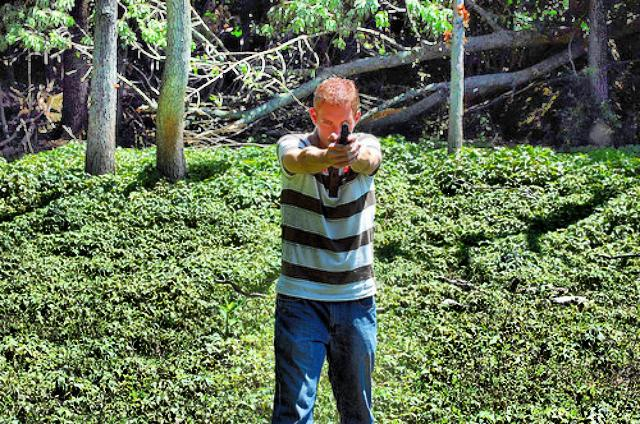pistol: (338, 119, 349, 145)
